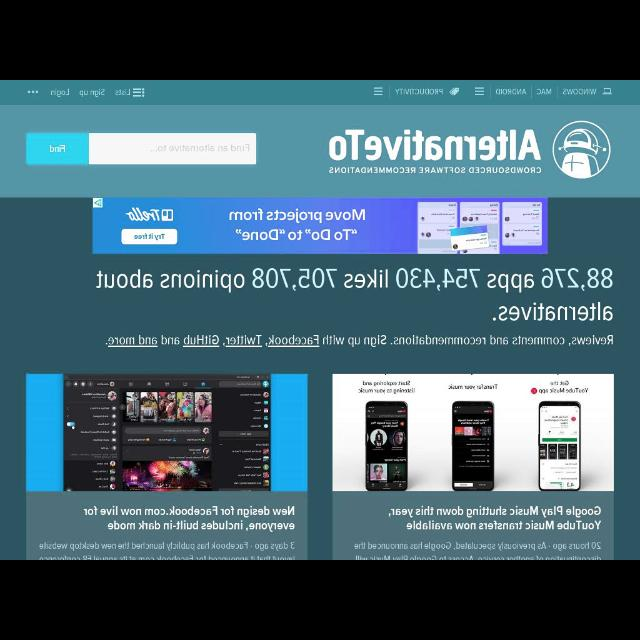icon: (132, 87, 144, 97), (450, 86, 460, 95), (373, 86, 383, 95), (474, 88, 484, 96), (601, 88, 613, 94), (27, 90, 39, 94)
iframe: (93, 198, 547, 252)
image: (332, 373, 614, 491), (26, 374, 308, 492), (552, 120, 612, 180)
input: (88, 134, 255, 164)
text: (96, 268, 614, 292), (105, 334, 613, 348), (330, 130, 542, 160), (83, 506, 295, 532), (387, 506, 601, 530), (39, 542, 294, 552), (354, 542, 602, 552), (492, 302, 612, 322), (329, 166, 541, 174), (149, 144, 249, 152), (395, 88, 443, 95), (80, 86, 104, 98), (562, 88, 596, 96), (496, 88, 526, 96), (50, 89, 68, 98), (536, 88, 552, 96), (114, 88, 130, 96)
textbutton: (26, 133, 88, 165)
toolbar: (1, 80, 639, 104)
